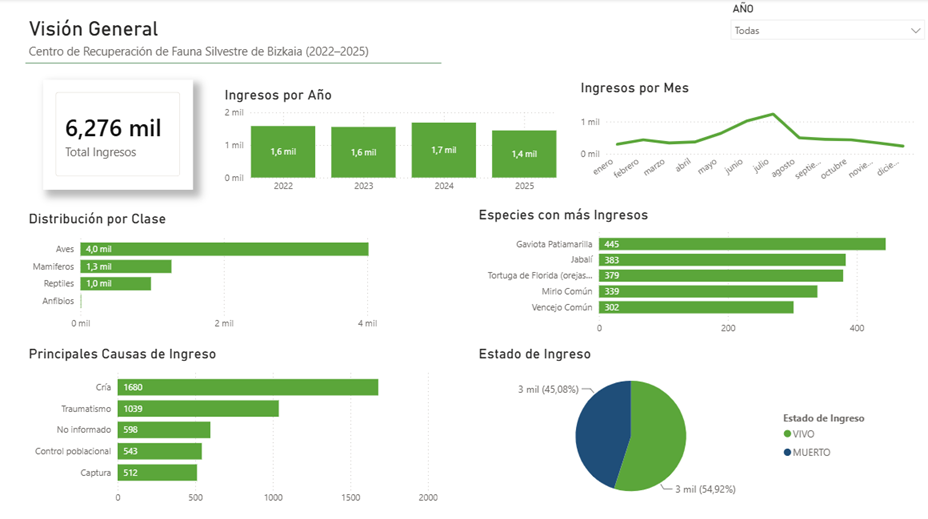

The page's visual inventory and layout, read from the dashboard file:
{"tool":"powerbi","page":{"name":"Resumen General","canvas":[1280,720],"ordinal":0},"visuals":[{"type":"cardVisual","title":"Ingresos Totales","fields":{"Data":["CountNonNull(fauna_2022_2025_clean.ID_UNICO)"]},"box":[60.4,111.1,205.8,150.9],"z":0},{"type":"clusteredColumnChart","title":"Ingresos por Año","fields":{"Category":["fauna_2022_2025_clean.AÑO"],"Y":["CountNonNull(fauna_2022_2025_clean.ID_UNICO)"]},"box":[304.6,120.8,465.2,155.1],"z":1000},{"type":"lineChart","title":"Ingresos por Mes","fields":{"Category":["fauna_2022_2025_clean.MES"],"Y":["CountNonNull(fauna_2022_2025_clean.ID_UNICO)"]},"box":[793.1,111.1,466.6,150.9],"z":2000},{"type":"barChart","title":"Especies con más Ingresos","fields":{"Category":["fauna_2022_2025_clean.ESPECIE"],"Y":["fauna_2022_2025_clean.Ingresos"]},"box":[653.2,285.4,627.1,185.2],"z":3000},{"type":"barChart","title":"Principales Causas de Ingreso","fields":{"Category":["fauna_2022_2025_clean.CAUSA INGRESO"],"Y":["fauna_2022_2025_clean.Ingresos"]},"box":[35.7,476.2,570.8,227.8],"z":4000},{"type":"pieChart","title":"Estado de Ingreso","fields":{"Category":["fauna_2022_2025_clean.ESTADO INGRESO"],"Y":["fauna_2022_2025_clean.Ingresos"]},"box":[653.2,476.2,555.7,227.8],"z":5000},{"type":"barChart","title":"Distribución por Clase","fields":{"Category":["fauna_2022_2025_clean.CLASE"],"Y":["fauna_2022_2025_clean.Ingresos"]},"box":[35.7,290.9,585.9,172.9],"z":6000},{"type":"slicer","fields":{"Values":["fauna_2022_2025_clean.AÑO"]},"box":[993.5,0,286.8,91.9],"z":7000},{"type":"textbox","title":"Visión General","box":[35.7,24.7,570.8,67.2],"z":8000}]}

Visuals, with their boxes in screenshot pixels (x1, y1, x2, y2), scaled from the page's 1280x720 canvas onto the 928x519 screenshot:
"Ingresos Totales" cardVisual: box=[44, 80, 193, 189]
"Ingresos por Año" clusteredColumnChart: box=[221, 87, 558, 199]
"Ingresos por Mes" lineChart: box=[575, 80, 913, 189]
"Especies con más Ingresos" barChart: box=[474, 206, 927, 339]
"Principales Causas de Ingreso" barChart: box=[26, 343, 440, 507]
"Estado de Ingreso" pieChart: box=[474, 343, 876, 507]
"Distribución por Clase" barChart: box=[26, 210, 451, 334]
slicer - fauna_2022_2025_clean.AÑO: box=[720, 0, 927, 66]
"Visión General" textbox: box=[26, 18, 440, 66]
